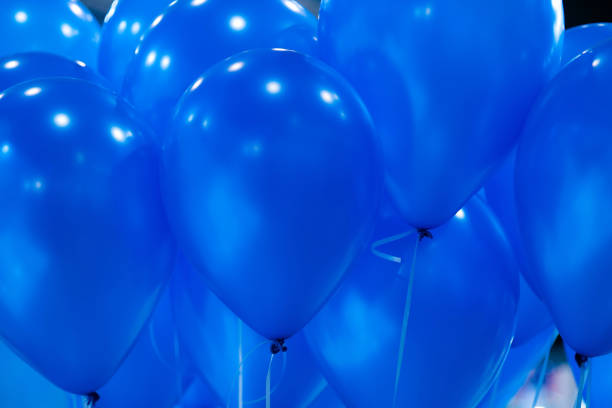Balloon: (164, 48, 381, 341), (314, 1, 564, 227), (1, 78, 174, 393), (314, 202, 520, 408), (514, 38, 612, 358)
